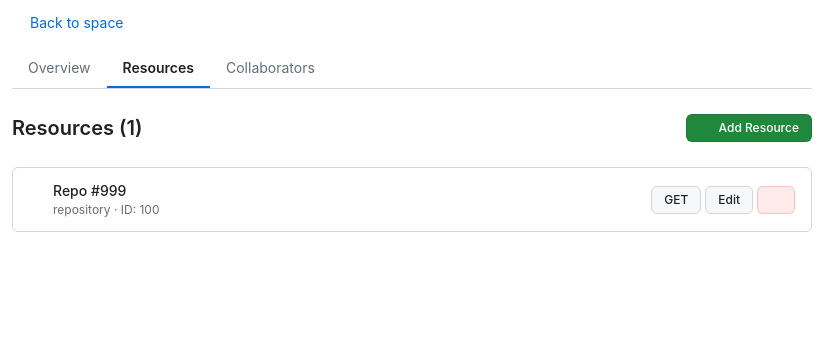
Test: ResourcesPage › enters edit mode for a resource
The width and height of the screenshot is (829, 357).
What coordinates should you click on to do the following:
click the button "Edit"
I would click on:
 (729, 200)
Its box is 705,186 -> 753,214.
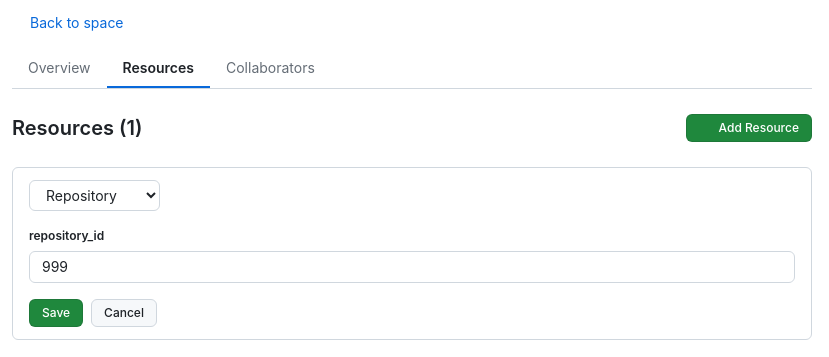
Expected: the button "Save" is shown, 29,299 -> 83,327
Expected: the button "Cancel" is shown, 91,299 -> 157,327
